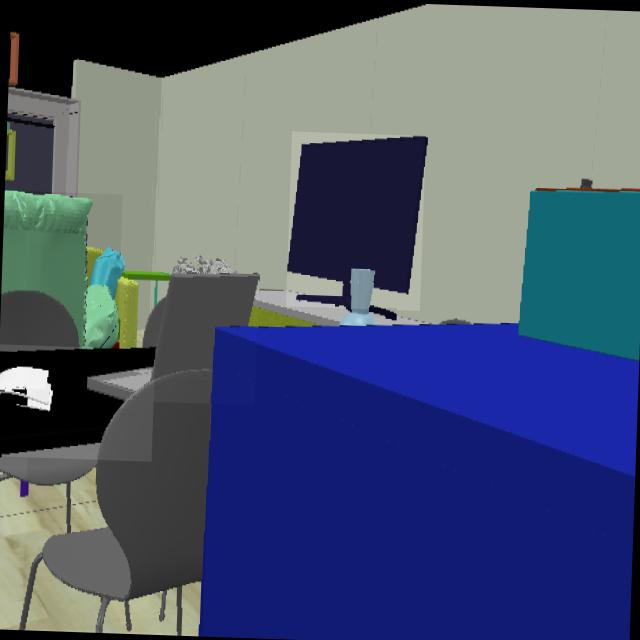chair: (21, 372, 211, 630)
laptop: (86, 275, 258, 400)
monitor: (287, 137, 425, 308), (369, 307, 395, 317)
sofa: (1, 190, 118, 349)
table: (0, 350, 155, 455)
